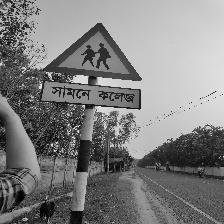College-in-front: (38, 14, 155, 126)
